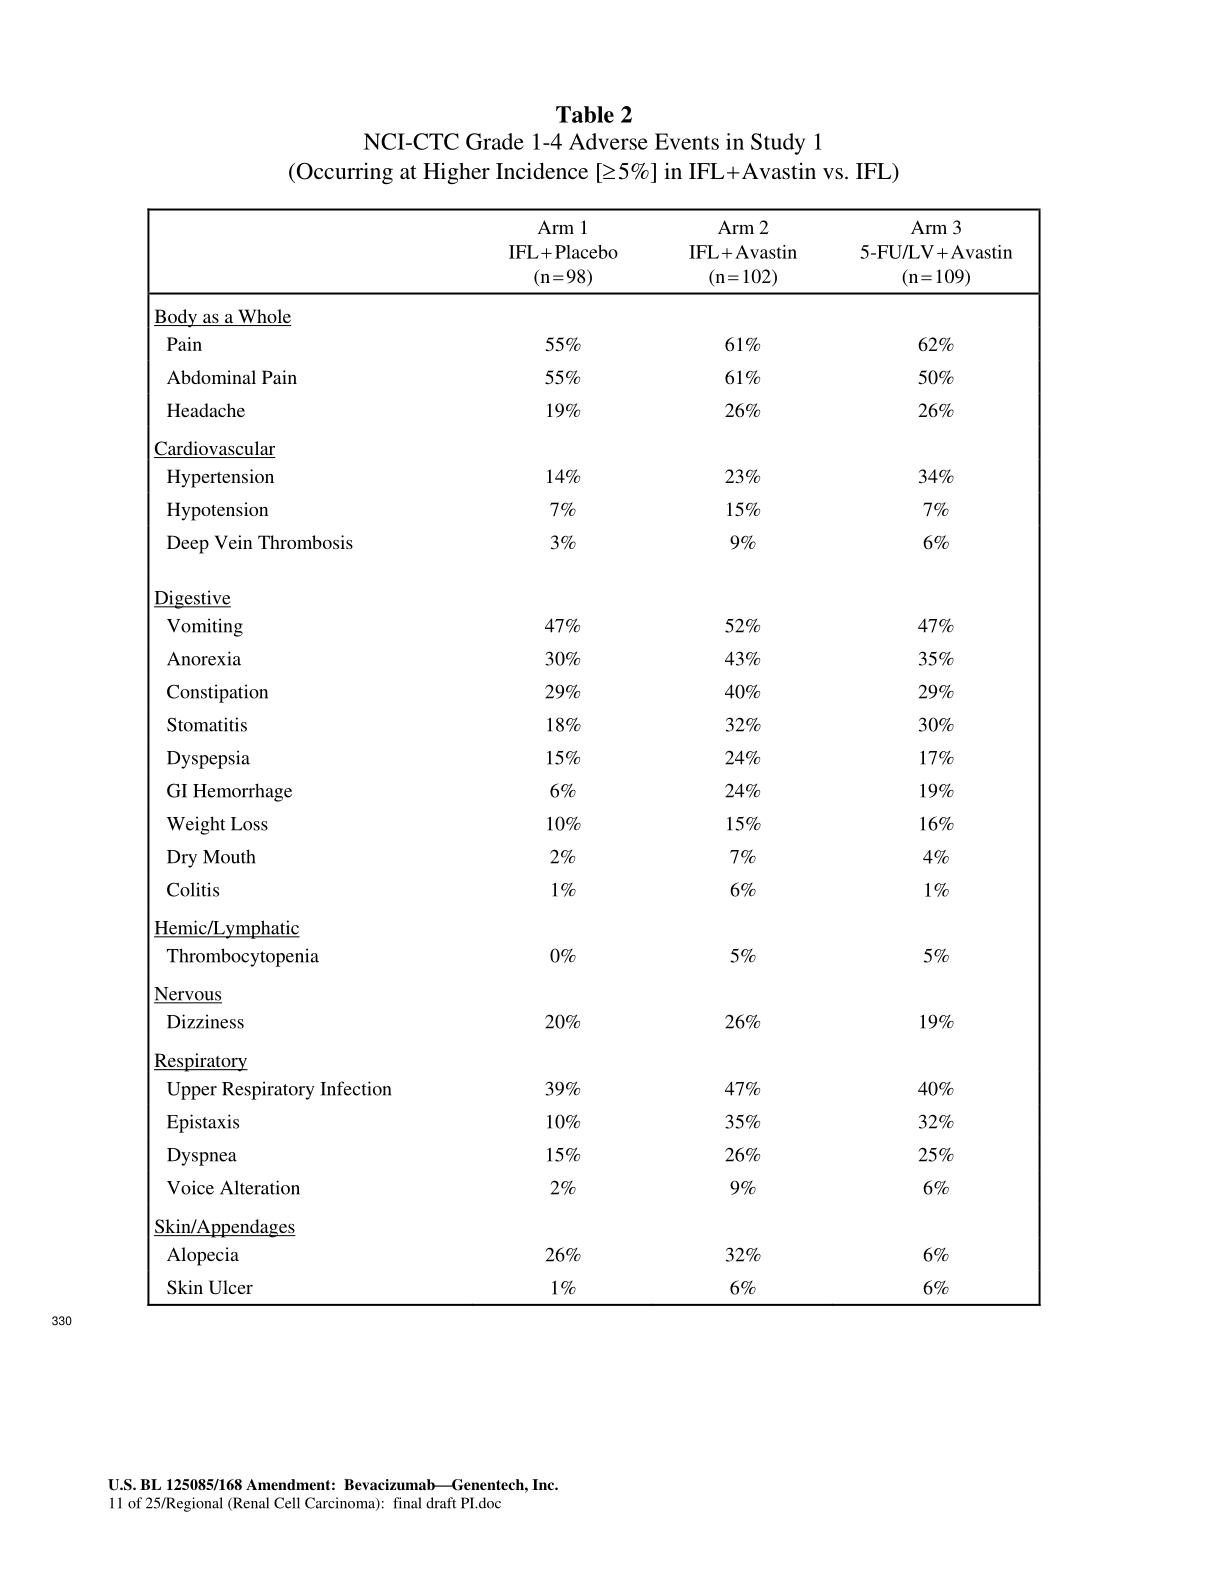partial_lined_merged_cells: (147, 207, 1041, 1308)
